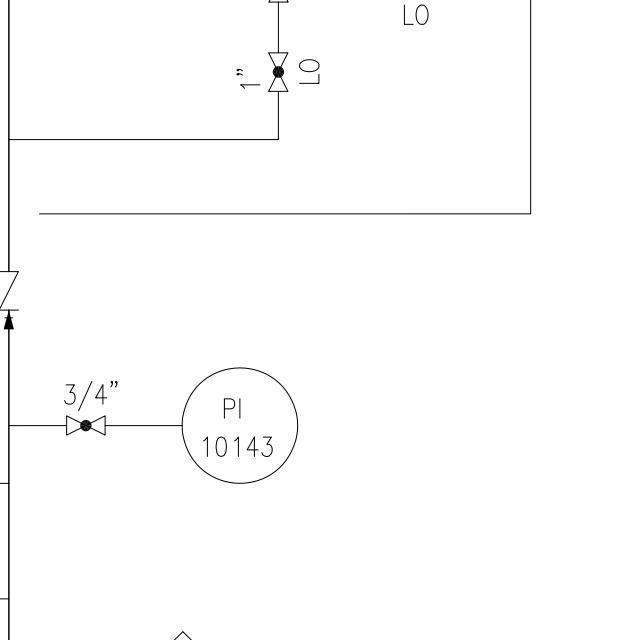BV2: (265, 46, 293, 99), (61, 413, 110, 436)
